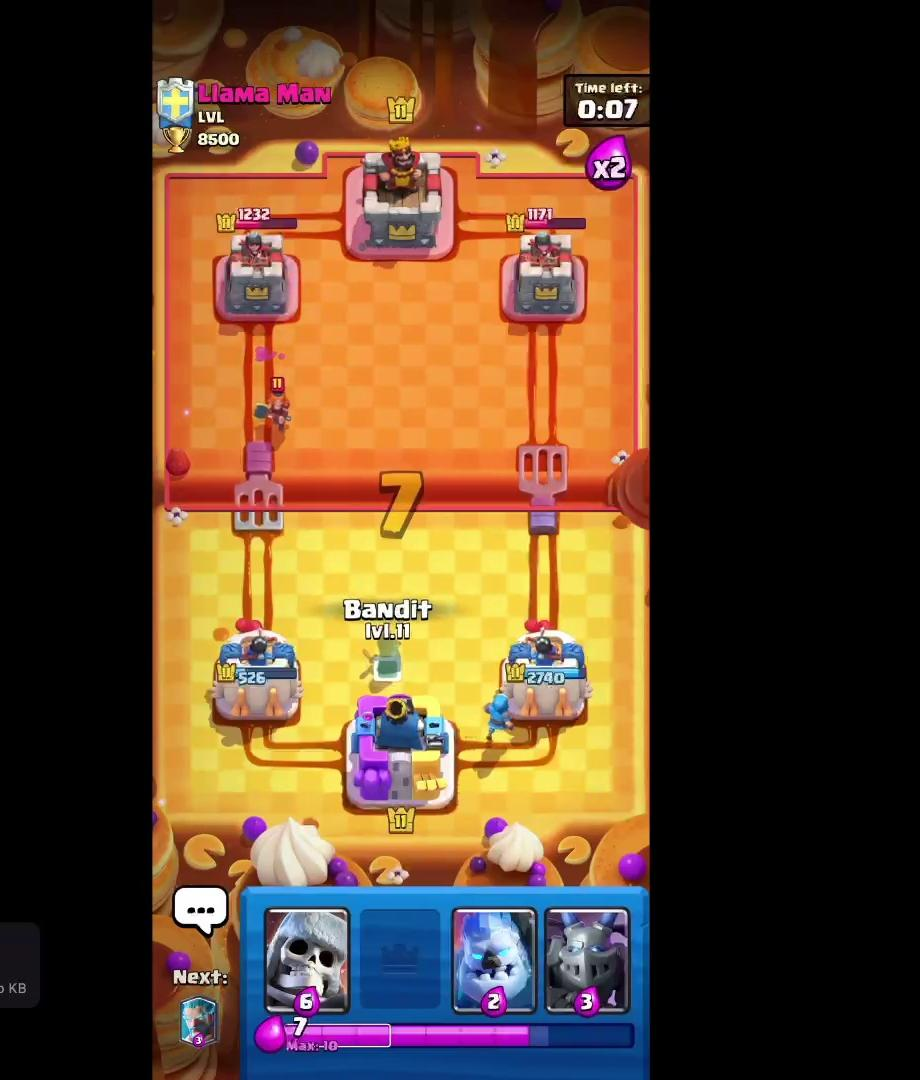Valkyrie: (250, 377, 298, 432)
